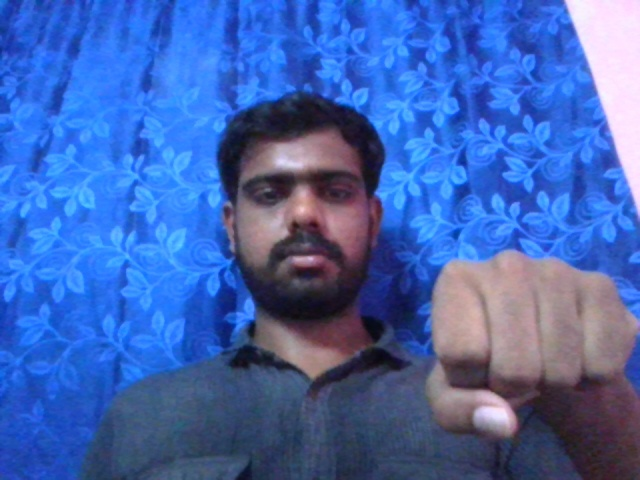Yes: (426, 240, 636, 438)
